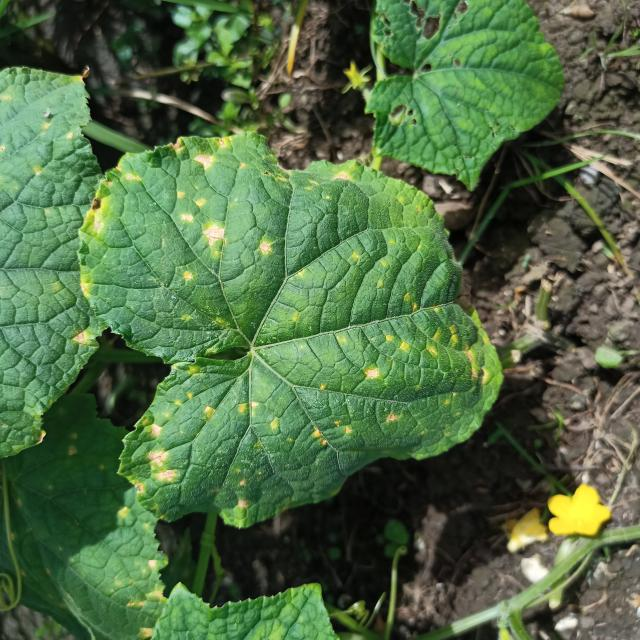disease_cucumber: (80, 130, 492, 513), (31, 116, 78, 184)
